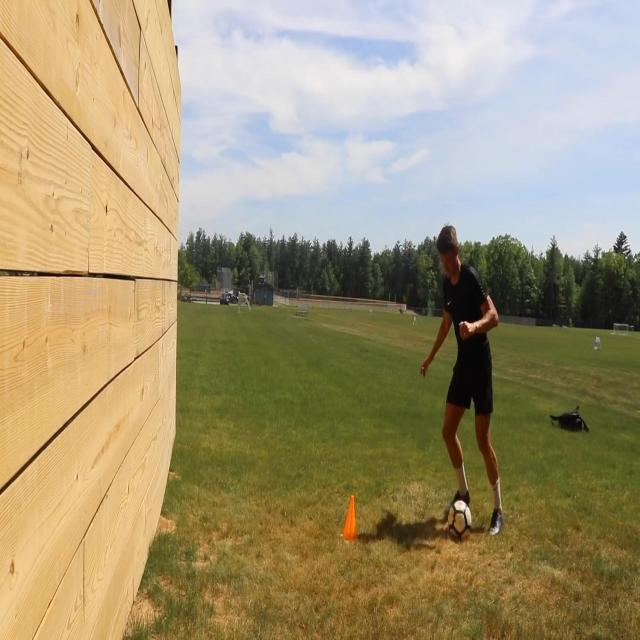Soccer Ball: (447, 500, 472, 545)
